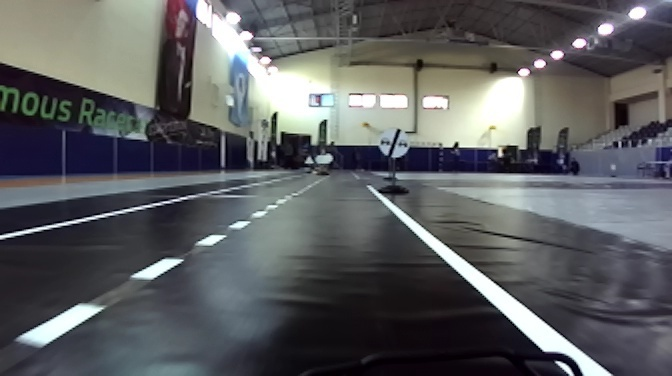sollama_serbest: (377, 126, 409, 157)
